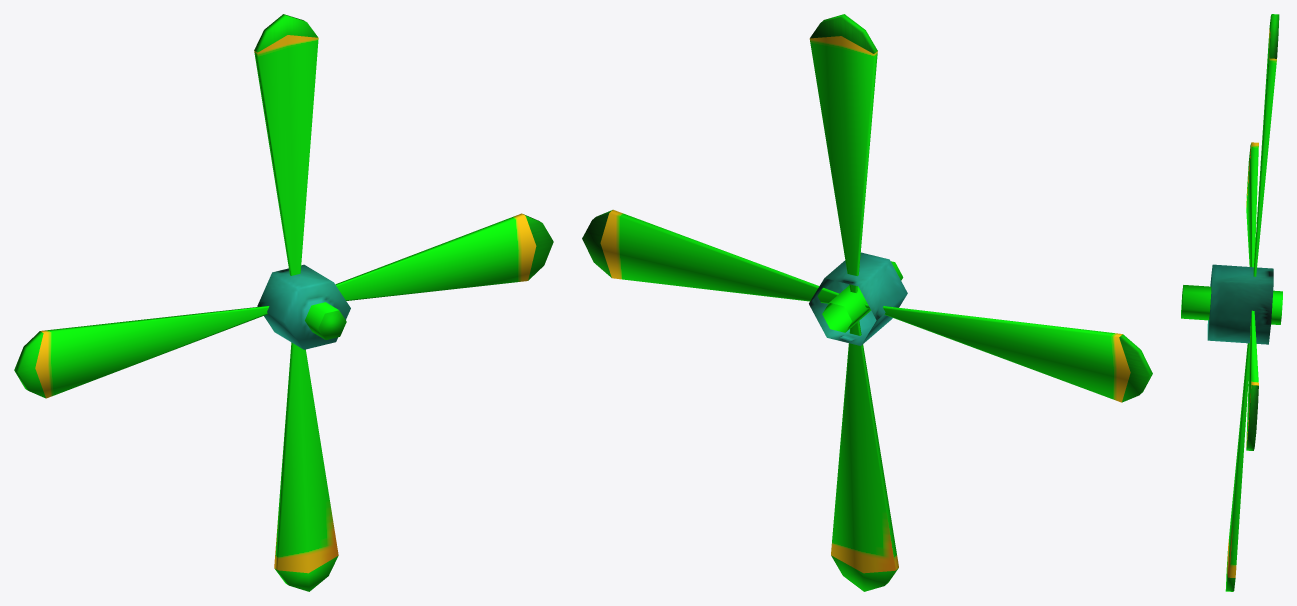
File: plane7_blades4.obj
3 renders of one model, left to right at view 1: azimuth 30°, elevation 25°; view 2: azimuth 150°, elevation 25°; view 3: azimuth 270°, elevation 25°, orthographic. The views are drawn at different scales.
Parts seen in each view (by area): view 1: Catoon_B29_fan; view 2: Catoon_B29_fan; view 3: Catoon_B29_fan.
Boxes of the visible parts, <box> form: Catoon_B29_fan: <box>14,14,553,591</box>; Catoon_B29_fan: <box>582,14,1152,591</box>; Catoon_B29_fan: <box>1181,14,1282,591</box>.
Bounding box in the file's own units: 11.73 × 11.71 × 1.87.
Materials: 1 (1 with a texture image).
